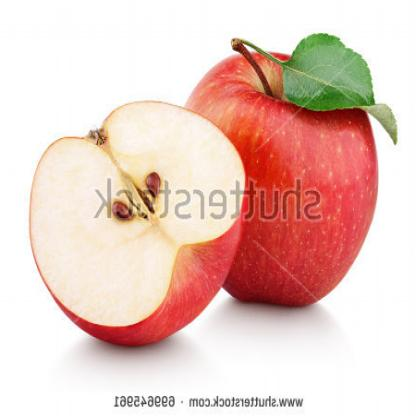apple: (166, 44, 384, 331)
